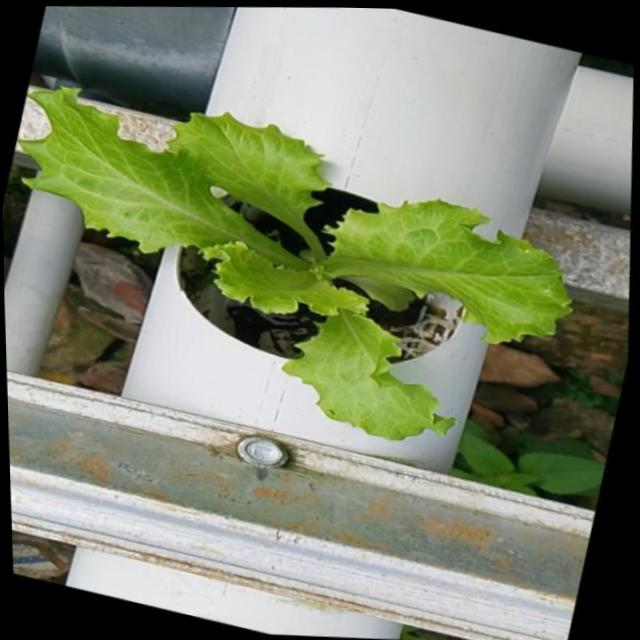Baby: (22, 93, 573, 444)
